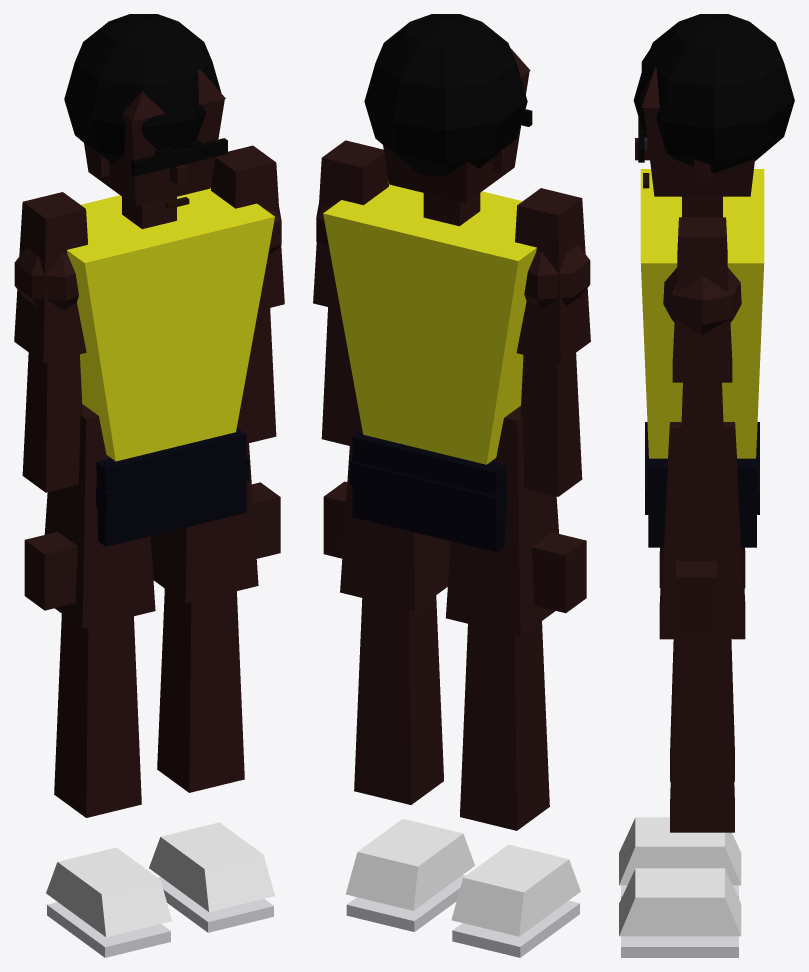
Rendered from npc_jogger.glb.
3 renders of one model, left to right at view 1: azimuth 30°, elevation 25°; view 2: azimuth 150°, elevation 25°; view 3: azimuth 270°, elevation 25°, orthographic. The views are drawn at different scales.
Parts seen in each view (by area): view 1: torso, head, lowerLegL, lowerLegR, hips, foreArmR, upperLegR, upperArmR, footR, footL, upperLegL, foreArmL (+1 smaller); view 2: torso, head, lowerLegL, lowerLegR, hips, upperLegR, foreArmR, upperArmR, footR, footL, upperLegL, upperArmL (+1 smaller); view 3: head, torso, lowerLegL, footL, upperArmL, upperLegL, foreArmL, footR, hips, lowerLegR.
Part boxes in pixels (x1=…): torso: x1=66, y1=187, x2=274, y2=461; head: x1=64, y1=14, x2=227, y2=208; lowerLegL: x1=157, y1=589, x2=244, y2=792; lowerLegR: x1=54, y1=614, x2=141, y2=817; hips: x1=95, y1=428, x2=249, y2=546; foreArmR: x1=22, y1=352, x2=82, y2=610; upperLegR: x1=44, y1=404, x2=155, y2=628; upperArmR: x1=14, y1=192, x2=87, y2=362; footR: x1=46, y1=847, x2=171, y2=957; footL: x1=149, y1=822, x2=274, y2=932; upperLegL: x1=150, y1=383, x2=258, y2=603; foreArmL: x1=245, y1=308, x2=280, y2=558; torso: x1=323, y1=181, x2=536, y2=464; head: x1=364, y1=14, x2=532, y2=202; lowerLegL: x1=354, y1=595, x2=443, y2=804; lowerLegR: x1=460, y1=621, x2=549, y2=830; hips: x1=349, y1=430, x2=506, y2=552; upperLegR: x1=445, y1=406, x2=558, y2=636; foreArmR: x1=520, y1=353, x2=586, y2=613; upperArmR: x1=515, y1=188, x2=590, y2=363; footR: x1=451, y1=844, x2=580, y2=957; footL: x1=345, y1=819, x2=475, y2=931; upperLegL: x1=340, y1=385, x2=450, y2=610; upperArmL: x1=313, y1=140, x2=388, y2=309; head: x1=633, y1=14, x2=794, y2=196; torso: x1=640, y1=169, x2=764, y2=458; lowerLegL: x1=670, y1=639, x2=734, y2=832; footL: x1=619, y1=868, x2=741, y2=957; upperArmL: x1=663, y1=217, x2=741, y2=382; upperLegL: x1=659, y1=422, x2=745, y2=639; foreArmL: x1=676, y1=382, x2=725, y2=633; footR: x1=619, y1=817, x2=741, y2=898; hips: x1=645, y1=422, x2=759, y2=547; lowerLegR: x1=670, y1=639, x2=734, y2=781.
Size of the model in its own units: 0.551 by 1.82 by 0.3235.
